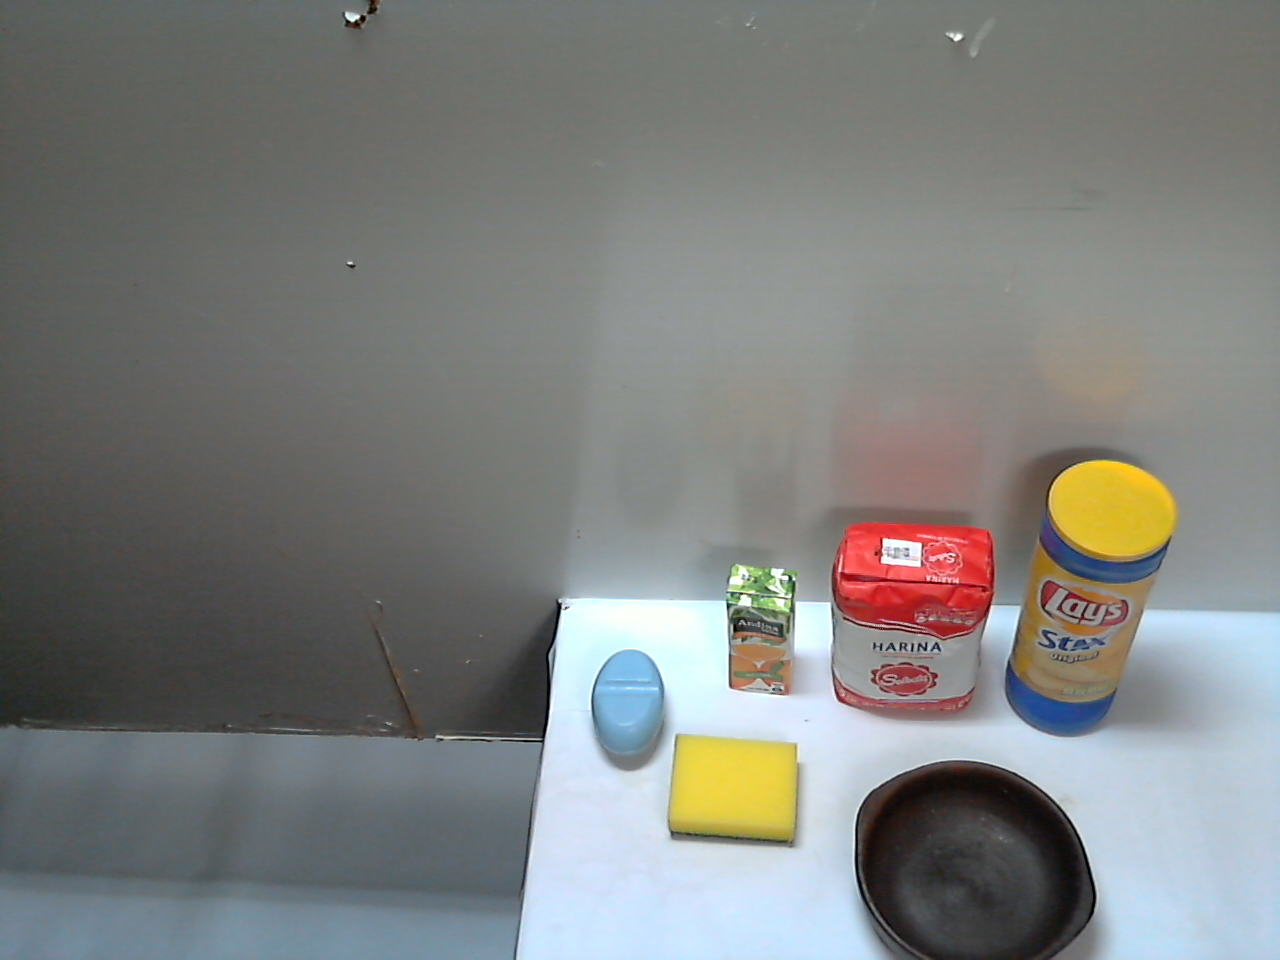aceite: (751, 510, 892, 800)
borrador: (627, 816, 857, 941)
cera: (952, 486, 1135, 792)
cloroplano: (519, 522, 710, 822)
lata: (873, 734, 993, 912)
limon: (455, 826, 602, 954)
